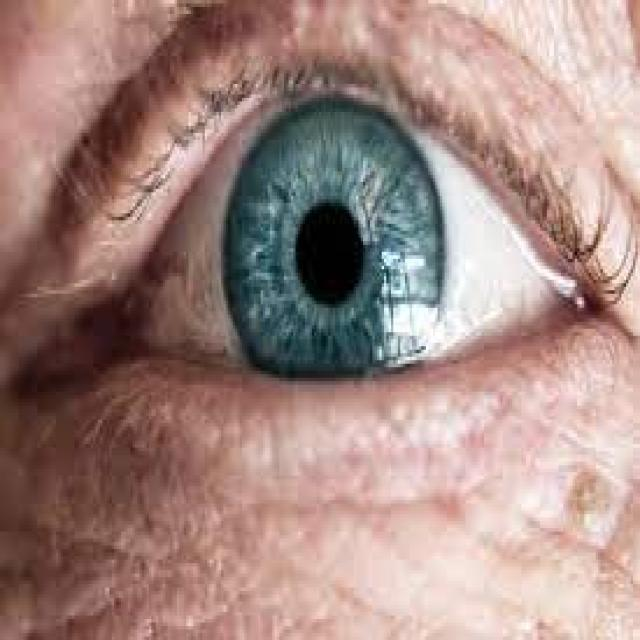Normal: (12, 18, 640, 640)
